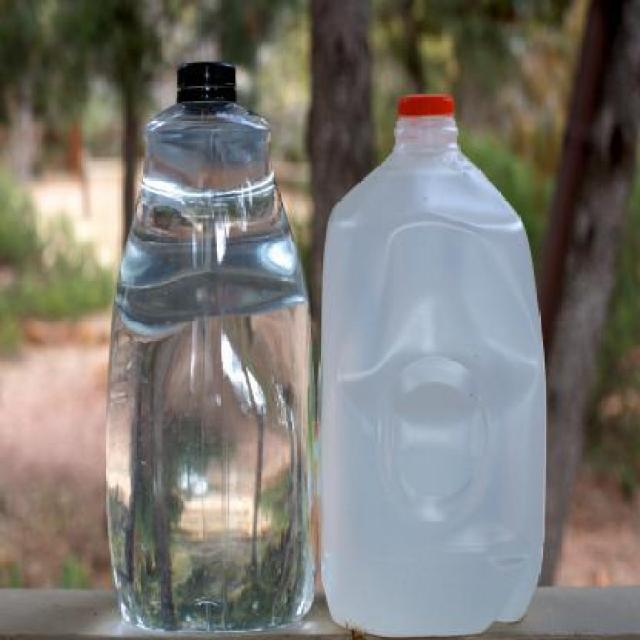bottle: (99, 43, 325, 632)
